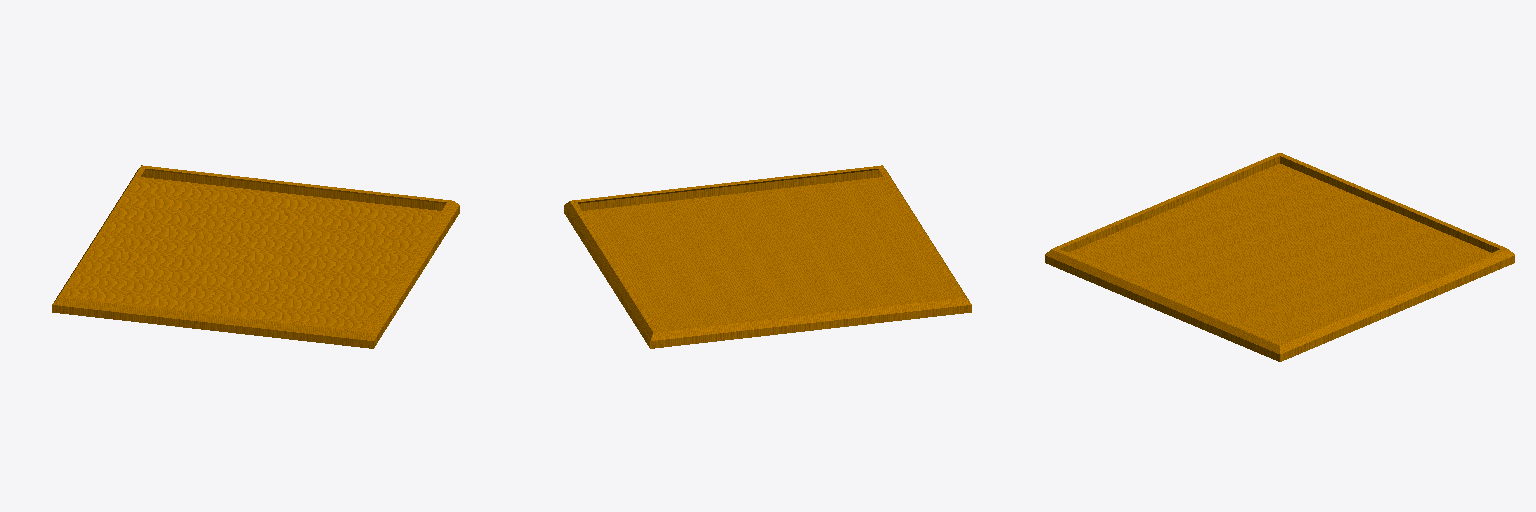
3 renders of one model, left to right at view 1: azimuth 30°, elevation 25°; view 2: azimuth 150°, elevation 25°; view 3: azimuth 270°, elevation 25°, orthographic.
Visible parts, largest first — view 1: Board.002; view 2: Board.002; view 3: Board.002.
Boxes of the visible parts, box(x1,y1,x2,y2) form: Board.002: box(52, 165, 459, 348); Board.002: box(564, 165, 971, 348); Board.002: box(1045, 153, 1514, 361).
Size of the model in its own units: 17.82 by 0.5734 by 17.82.
Materials: 1 (1 with a texture image).